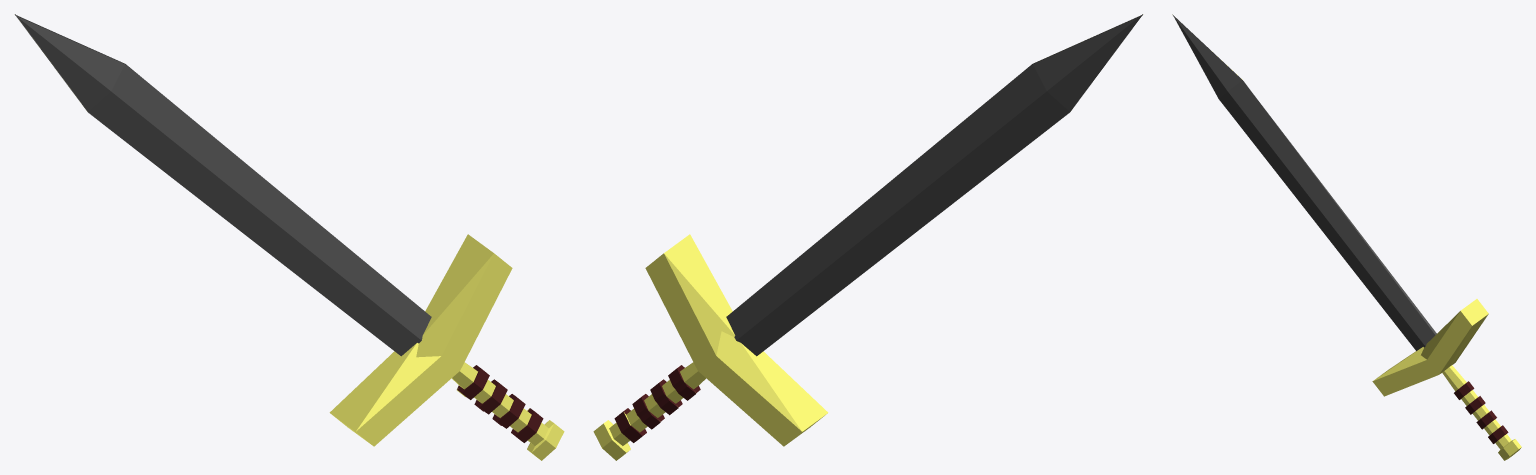
File: sword (1).fbx
3 views of the same model, side by side, from view 1: azimuth 30°, elevation 25°; view 2: azimuth 150°, elevation 25°; view 3: azimuth 330°, elevation 25° (orthographic). The views are drawn at different scales.
Visible parts, largest first — view 1: Sword; view 2: Sword; view 3: Sword.
Part boxes in pixels (box(x1,y1,x2,y2)): Sword: box(14, 14, 564, 460); Sword: box(593, 14, 1143, 460); Sword: box(1172, 14, 1521, 460).
Bounding box in the file's own units: 2414 × 2414 × 200.
